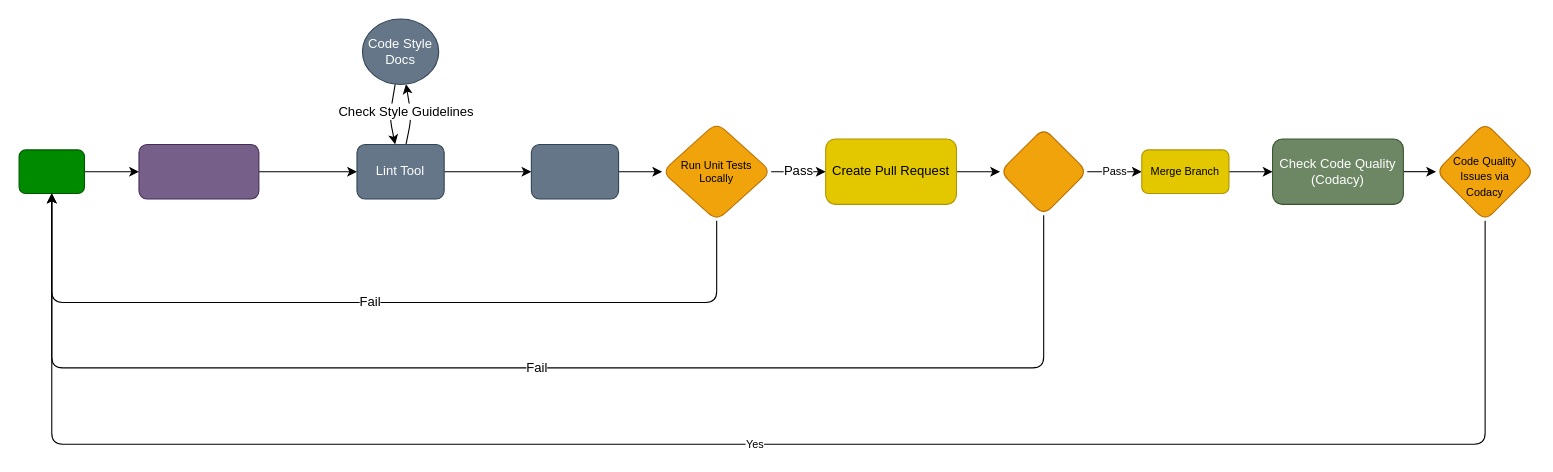
Some shapes in this 1553 by 472 pixel diagram are drawn without their labels. Here are the shapes that lost their labels. From the top down, the centre of each, then its label:
At point 51,171: "Code".
At point 198,171: "Add JSDoc Documentation".
At point 574,171: "Create Unit Tests (Mocha)".
At point 1043,171: "Human Review".
